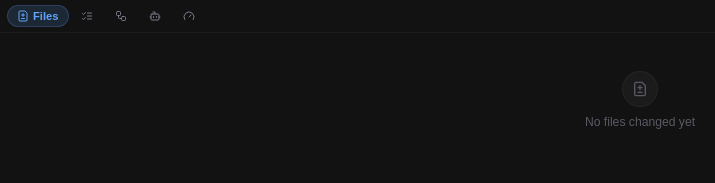
Test case: InspectorCard › degrades each section to an empty state when its data is missing
The image size is (715, 183).
Expected: the text "No files changed yet" is shown, [585,71,695,129]
Click the button named "Plan" at (86, 16), box [70,5,102,27]
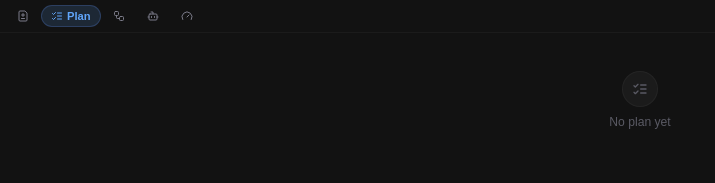
Expected: the text "No plan yet" is shown, [609,71,671,129]
Click the button named "Flows" at (119, 16), box [103,5,135,27]
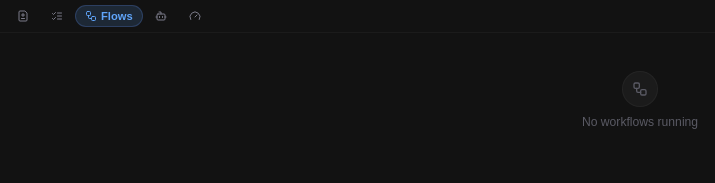
Expected: the text "No workflows running" is shown, [582,71,698,129]
Click the button named "Agents" at (161, 16), box [145,5,177,27]
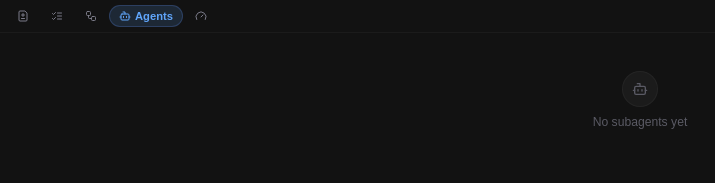
Expected: the text "No subagents yet" is shown, [593,71,687,129]
Click the button named "Usage" at (201, 16), box [185,5,217,27]
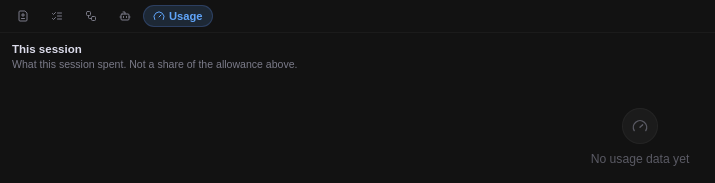
Expected: the text "No usage data yet" is shown, [591,108,689,166]
